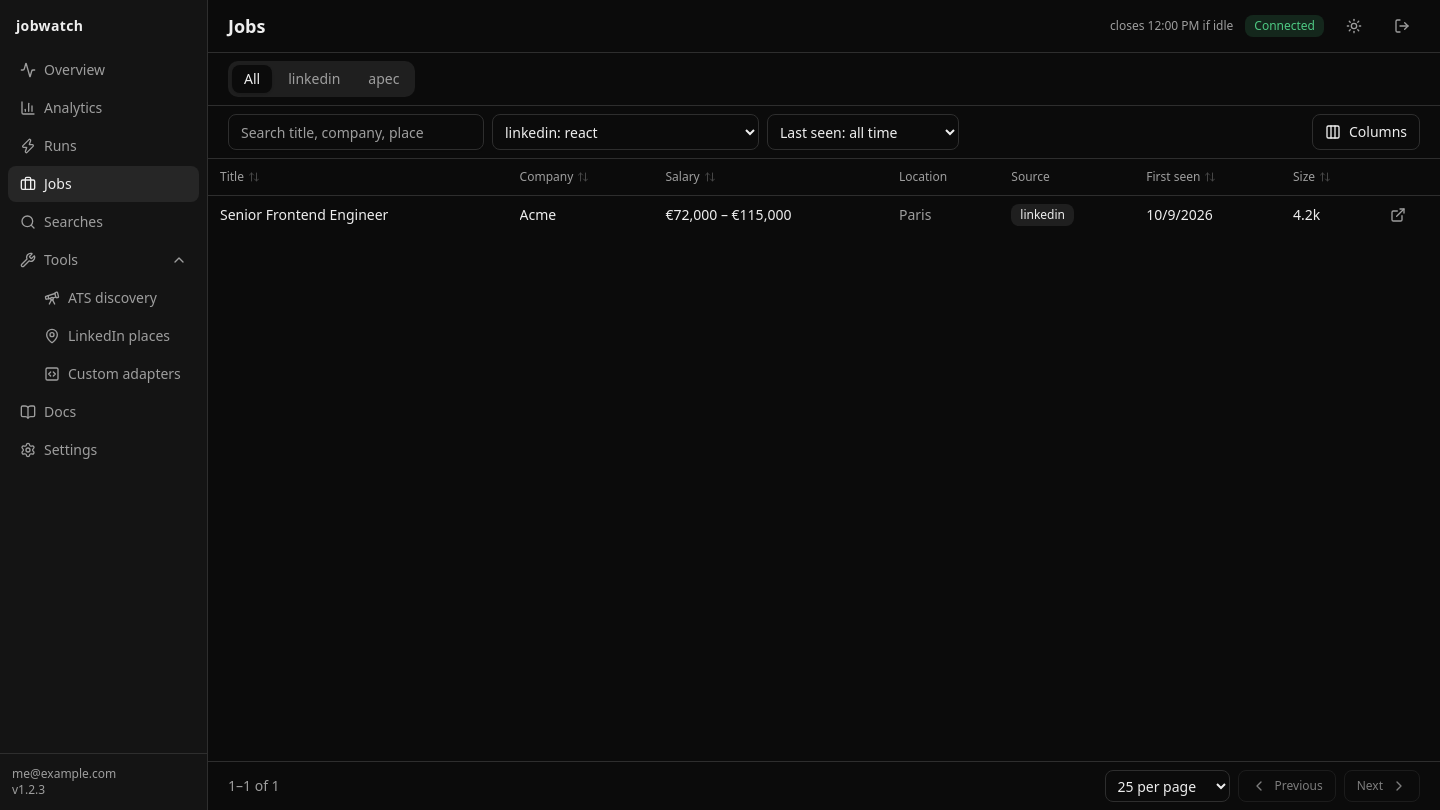
jobs table › switching the source tab › drops the search on the tab of another source, where it cannot apply
Expected: the number of rows is 2, [208,159,1439,195]; [208,195,1439,234]
Expected: the dropdown named "Search" shows "linkedin: react", [492,114,759,150]
Click the tab "apec" at (384, 79), box [356,65,411,93]
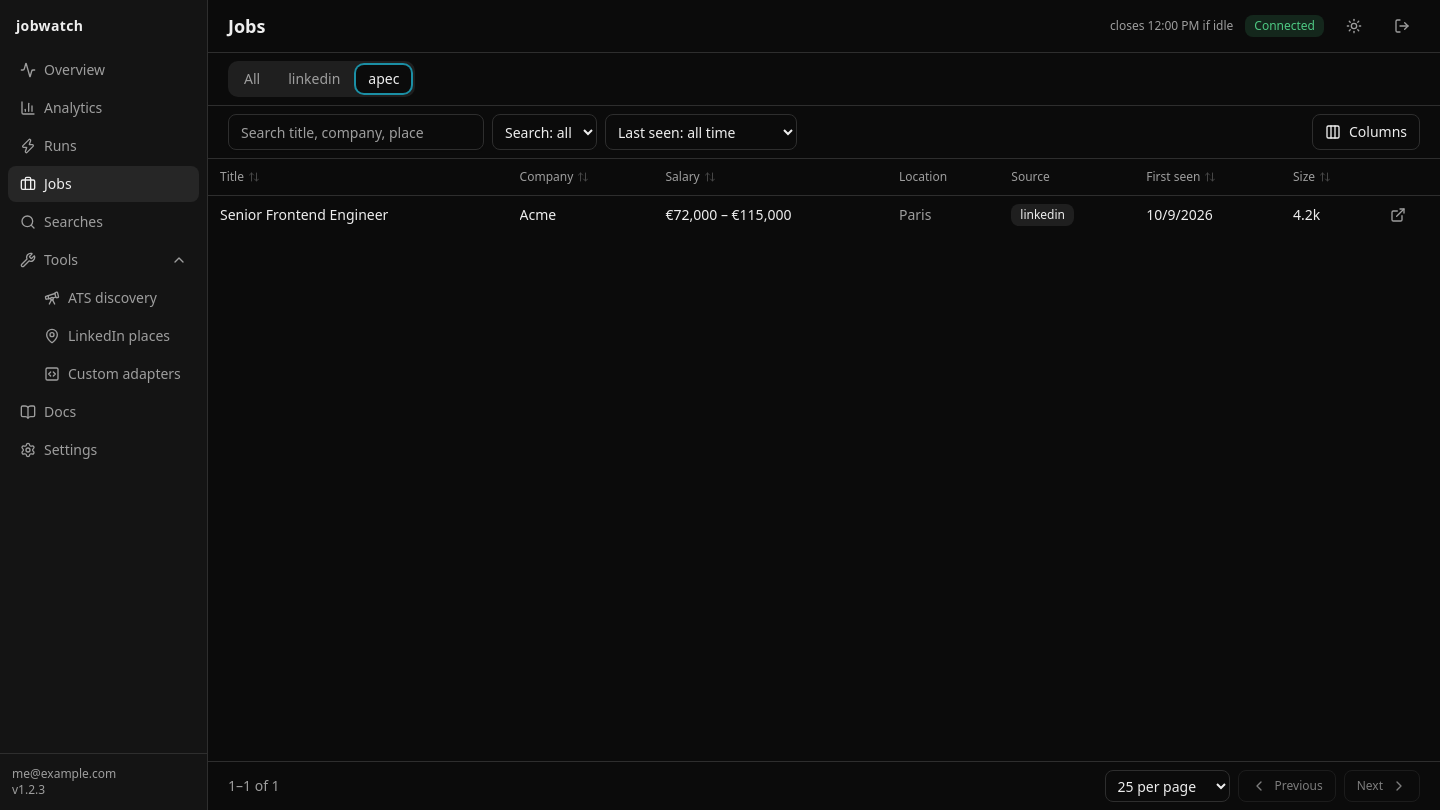
Expected: the dropdown named "Search" shows "Search: all", [492,114,597,150]
